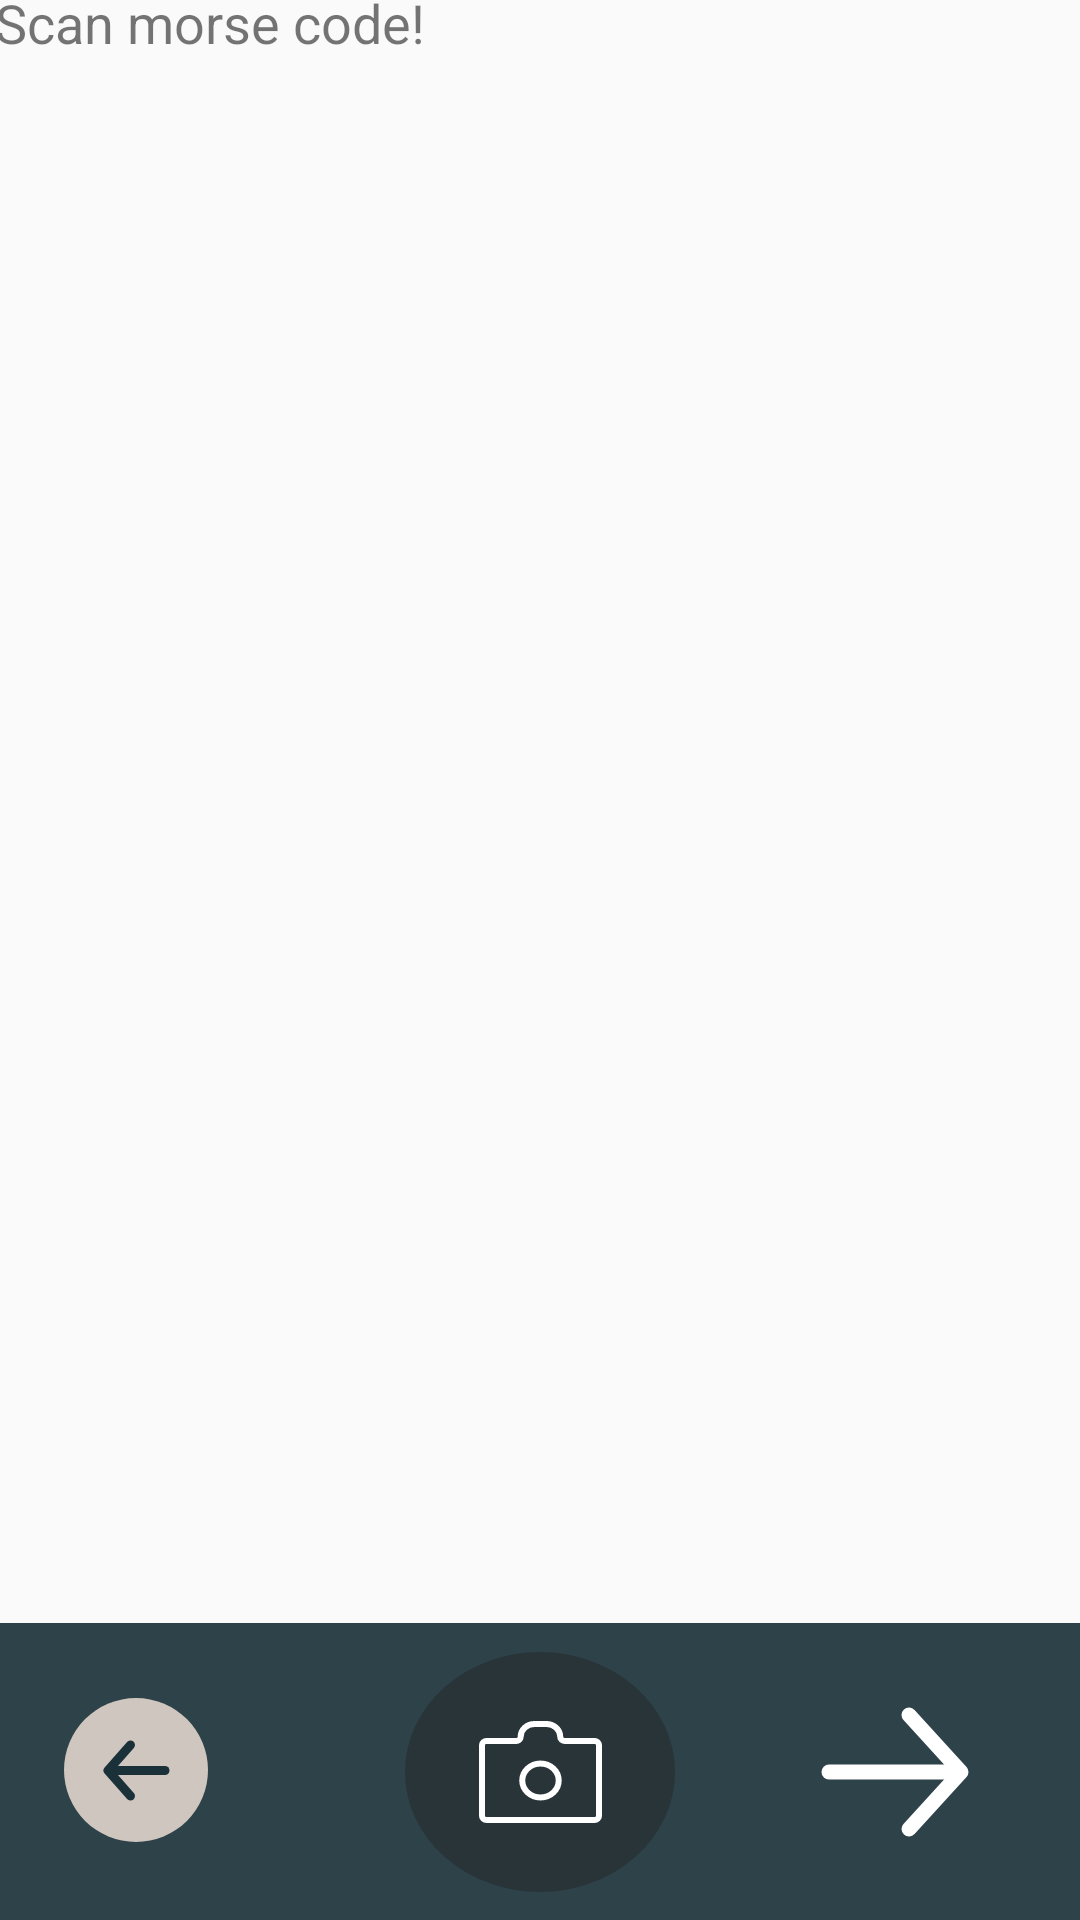

Icon click points for this 1080w x 1920h phone screenshot, format (x=x, y=y):
back arrow: (x=136, y=1770)
camera: (x=540, y=1772)
next: (x=895, y=1772)
